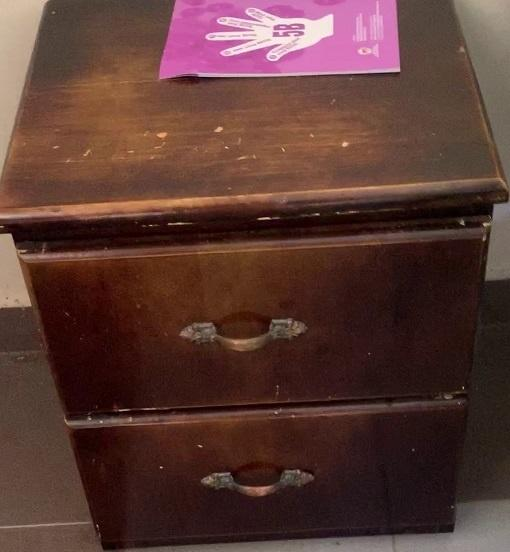cabinet_door: (47, 253, 484, 410), (89, 414, 466, 546)
handle: (182, 309, 312, 359), (202, 459, 320, 507)
